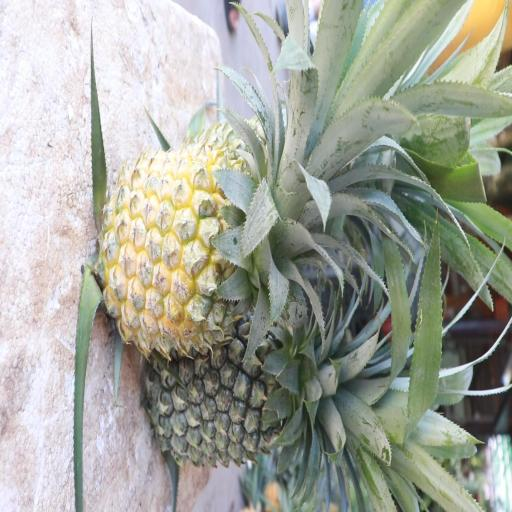Pineapple - v8 v1: (100, 138, 311, 347)
